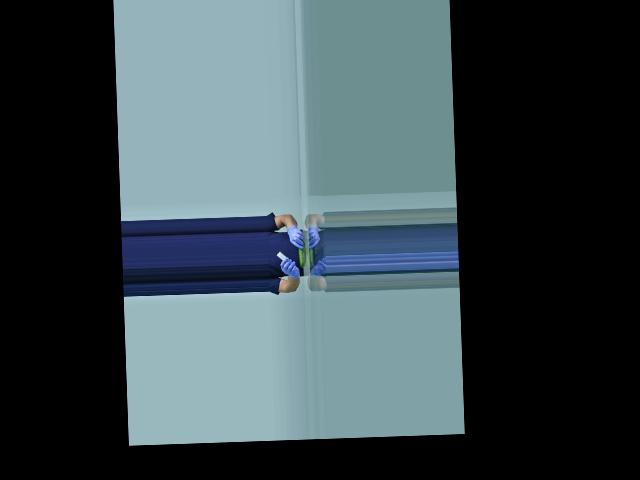cucumber: (298, 240, 306, 268)
